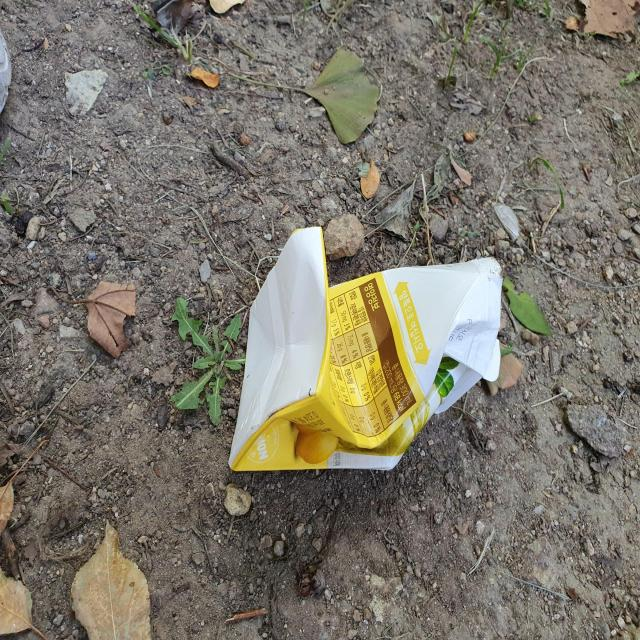paperpack: (229, 227, 503, 471)
